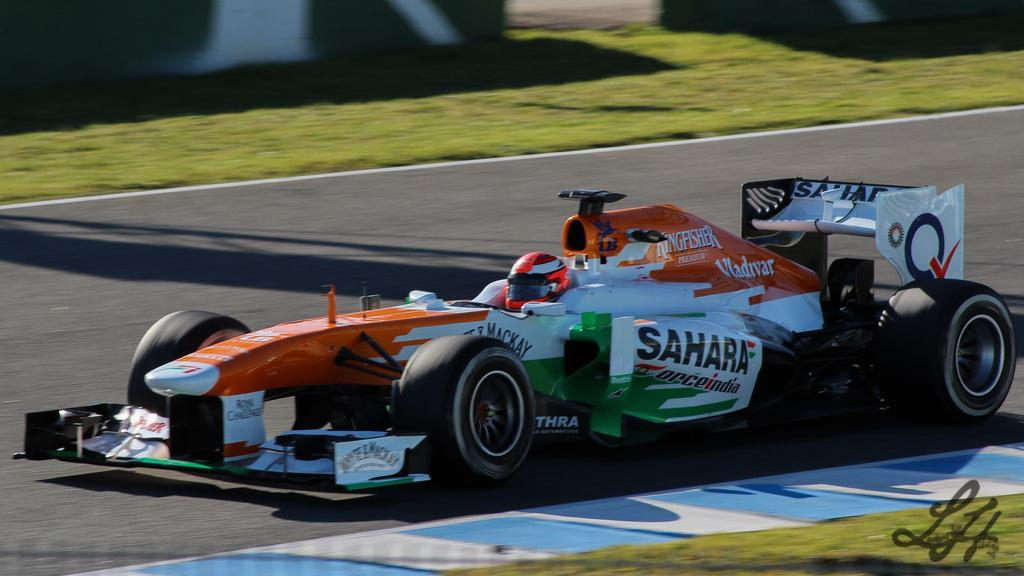helmet: (503, 250, 572, 312)
